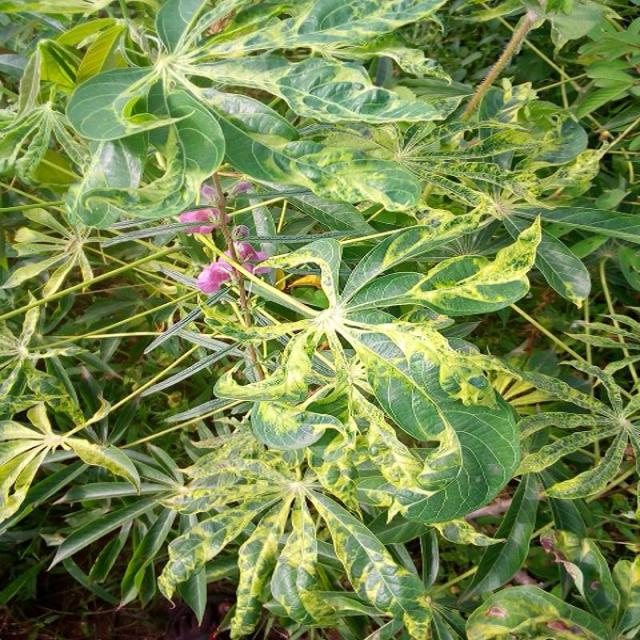cassava leaf: (3, 1, 637, 637), (352, 320, 522, 525)
